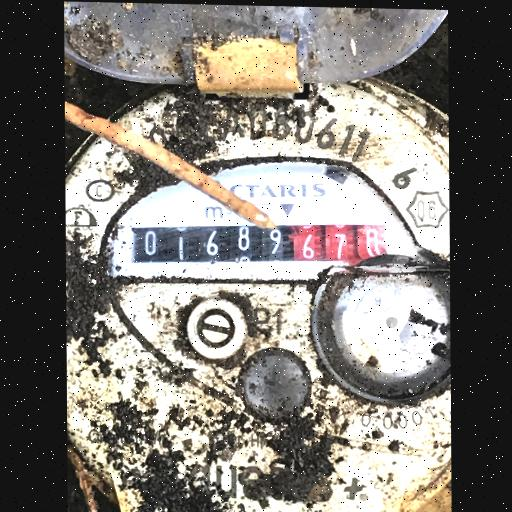0: (354, 223, 387, 261), (134, 227, 165, 264)
1: (166, 226, 198, 262)
6: (290, 224, 323, 262), (197, 226, 229, 264)
7: (322, 224, 355, 261)
8: (228, 225, 259, 262)
9: (259, 224, 291, 262)
border_water_meter_number: (127, 209, 388, 276)
